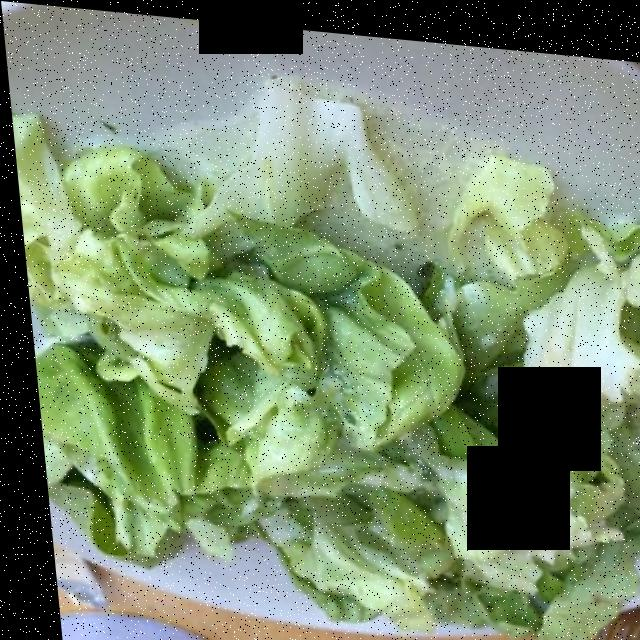salad-leaf-salad-green: (24, 80, 640, 623)
